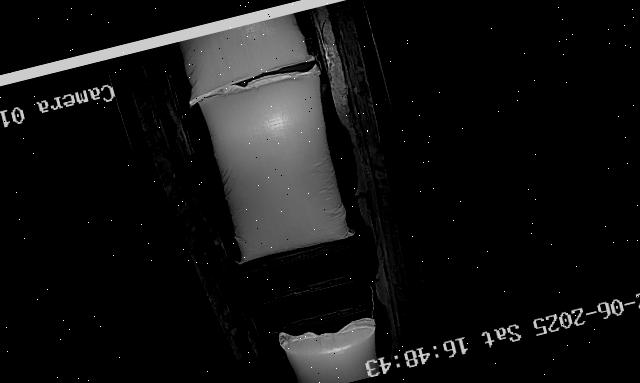bag: (195, 62, 360, 264), (174, 10, 318, 106), (276, 308, 386, 383)
